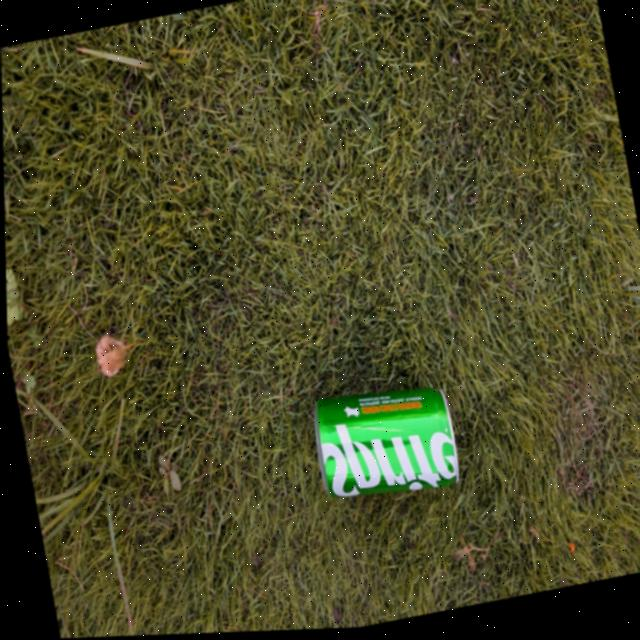Sprite: (306, 380, 465, 518)
